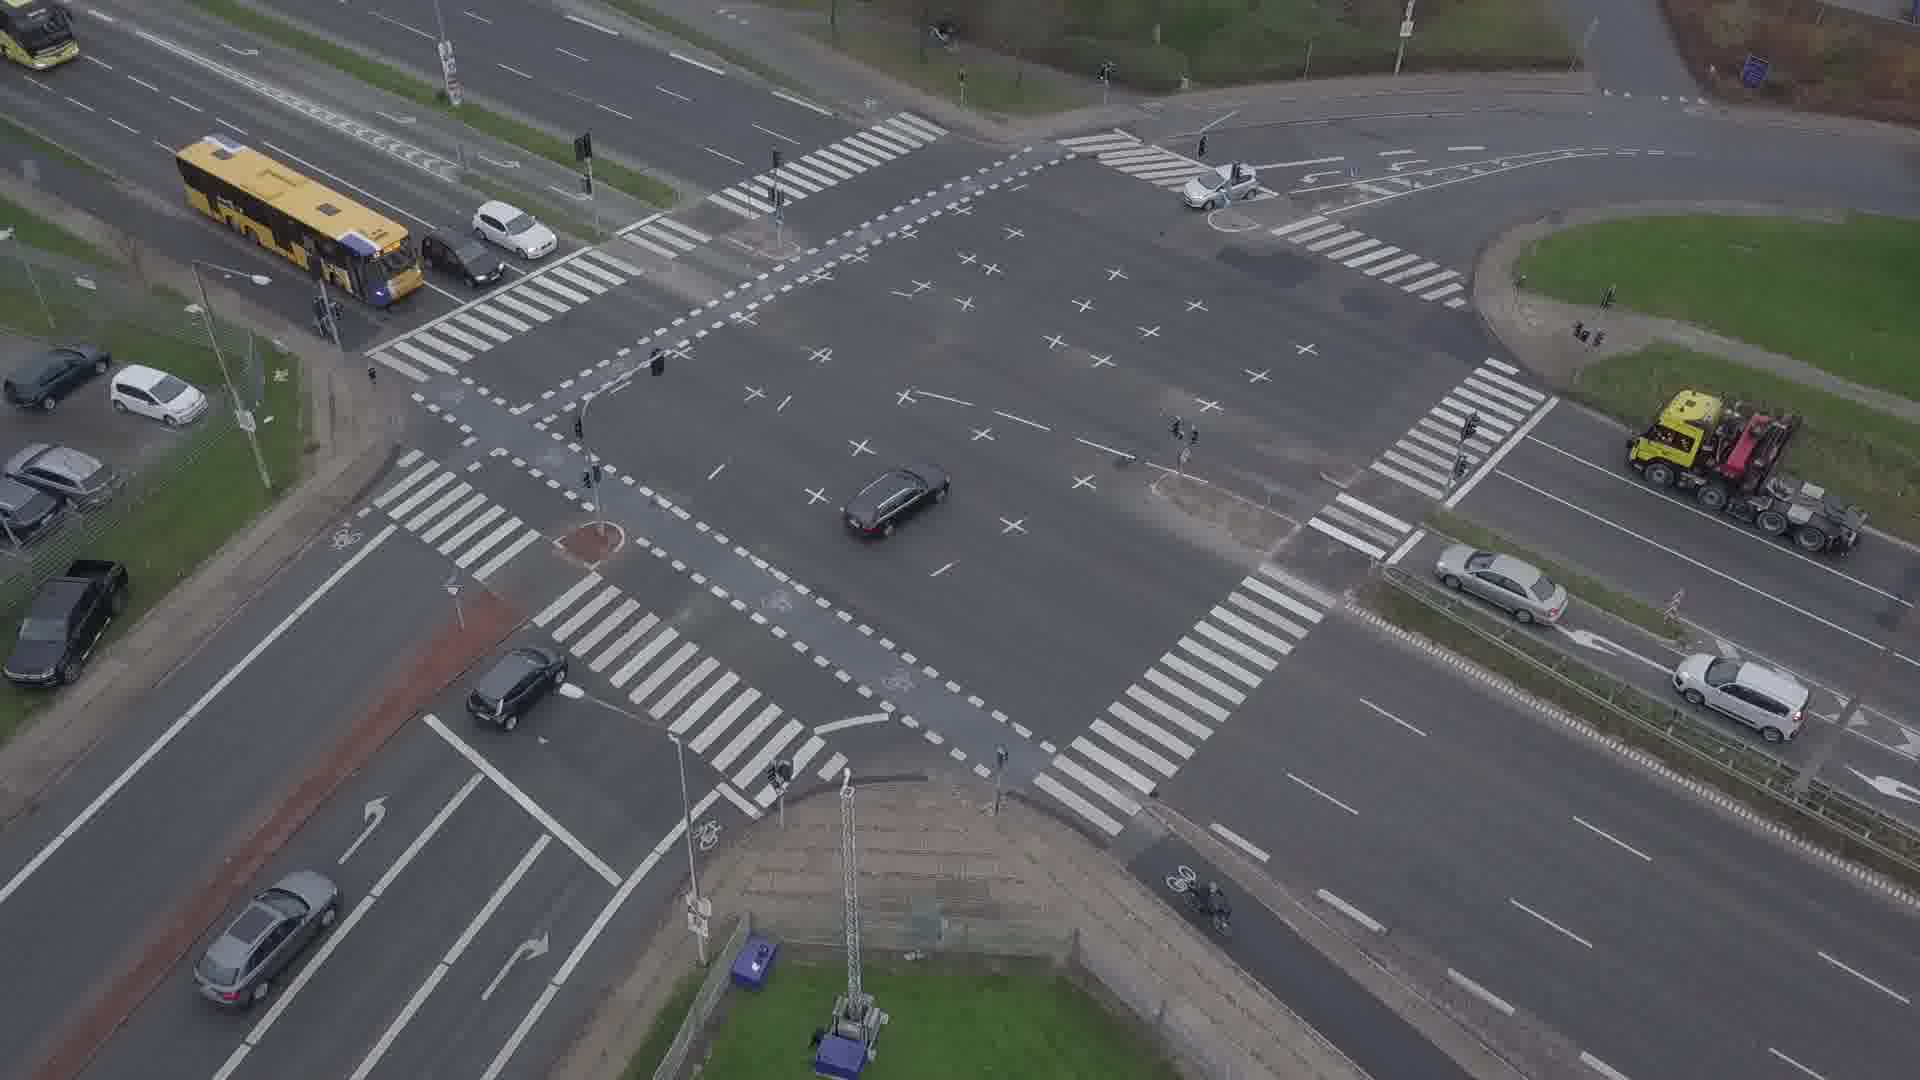bicycle: (1184, 876, 1231, 933), (311, 295, 338, 334), (925, 15, 958, 44)
car: (192, 869, 341, 1006), (1672, 652, 1813, 745), (1435, 544, 1570, 626), (464, 641, 569, 731), (841, 459, 952, 539), (472, 200, 558, 260), (420, 228, 505, 288), (1180, 163, 1260, 212)
